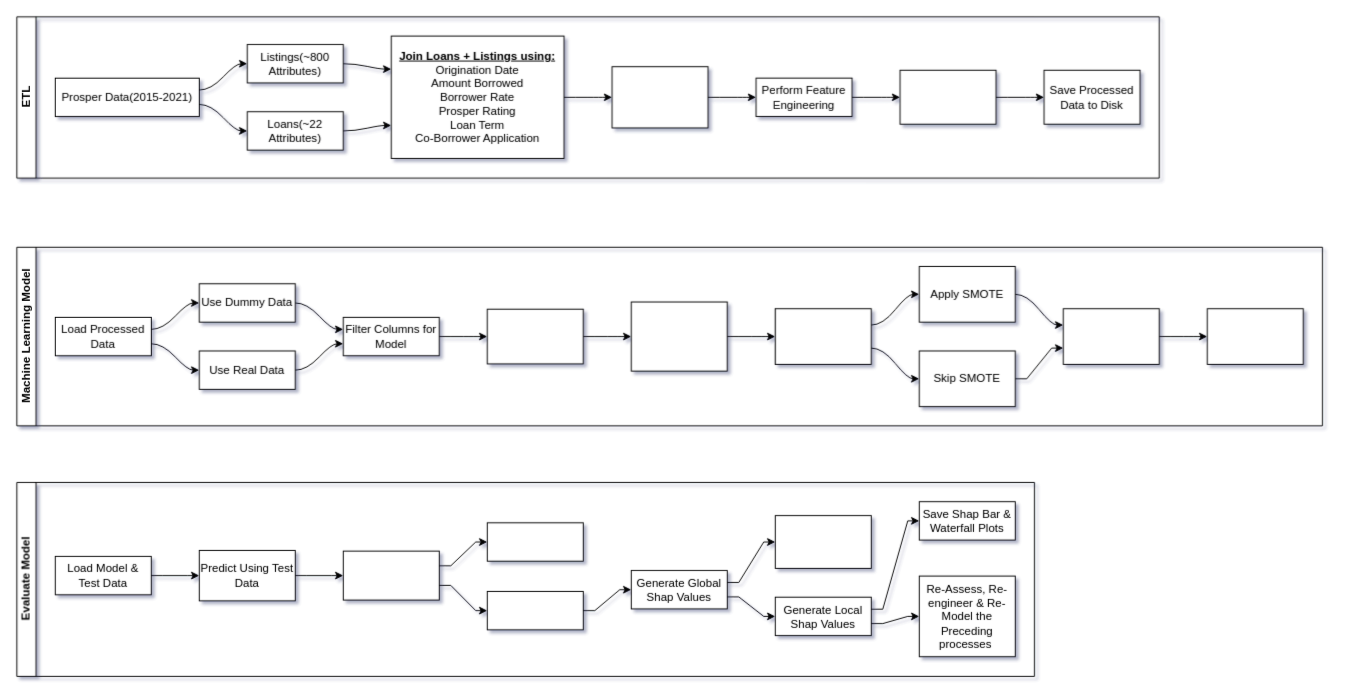
This 1345x699 diagram has some shape labels left out. Here are the shapes that lost their labels. From the top down, the centre of each, then its label:
At pixel 659 97: "Filter to Logically valid Listings & Valuable Columns".
At pixel 947 96: "Create Bad Loan Class for prediction".
At pixel 534 336: "Factorize Object Columns".
At pixel 678 336: "Split Data for Train & Test".
At pixel 822 336: "Normalize Data".
At pixel 1110 336: "Build Supervised ML Models".
At pixel 1254 336: "Save Model & Test Data".
At pixel 534 541: "Generate Classification Heat Map".
At pixel 822 541: "Save Shap Bar, Summary & Beeswarm Plots".
At pixel 390 575: "Build Classification Report".
At pixel 534 610: "Resample Data".
